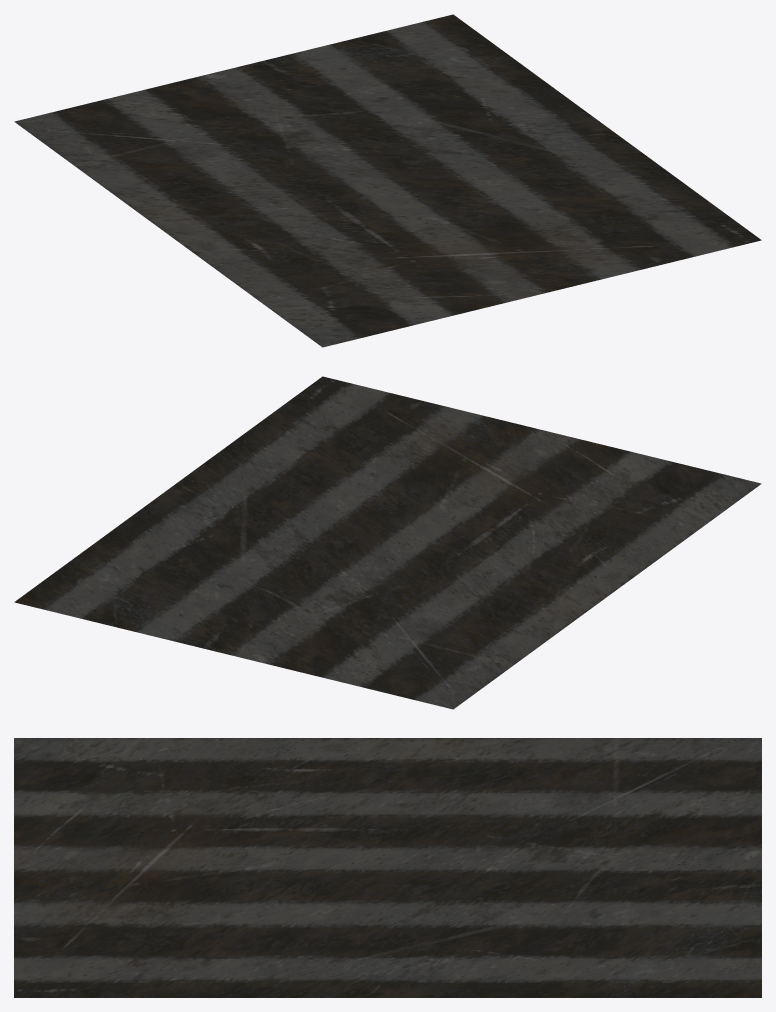
Rendered from roof_corner_top.fbx.
3 renders of one model, top to bottom at view 1: azimuth 30°, elevation 25°; view 2: azimuth 150°, elevation 25°; view 3: azimuth 270°, elevation 25°, orthographic. The views are drawn at different scales.
Visible parts, largest first — view 1: roof_corner_top; view 2: roof_corner_top; view 3: roof_corner_top.
Boxes of the visible parts, x1=… form: roof_corner_top: x1=14, y1=14, x2=761, y2=347; roof_corner_top: x1=14, y1=376, x2=761, y2=709; roof_corner_top: x1=14, y1=738, x2=761, y2=997.
Bounding box in the file's own units: 159 × 0 × 193.
